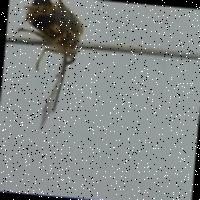Oriental-fruit-fly: (0, 0, 94, 143)
